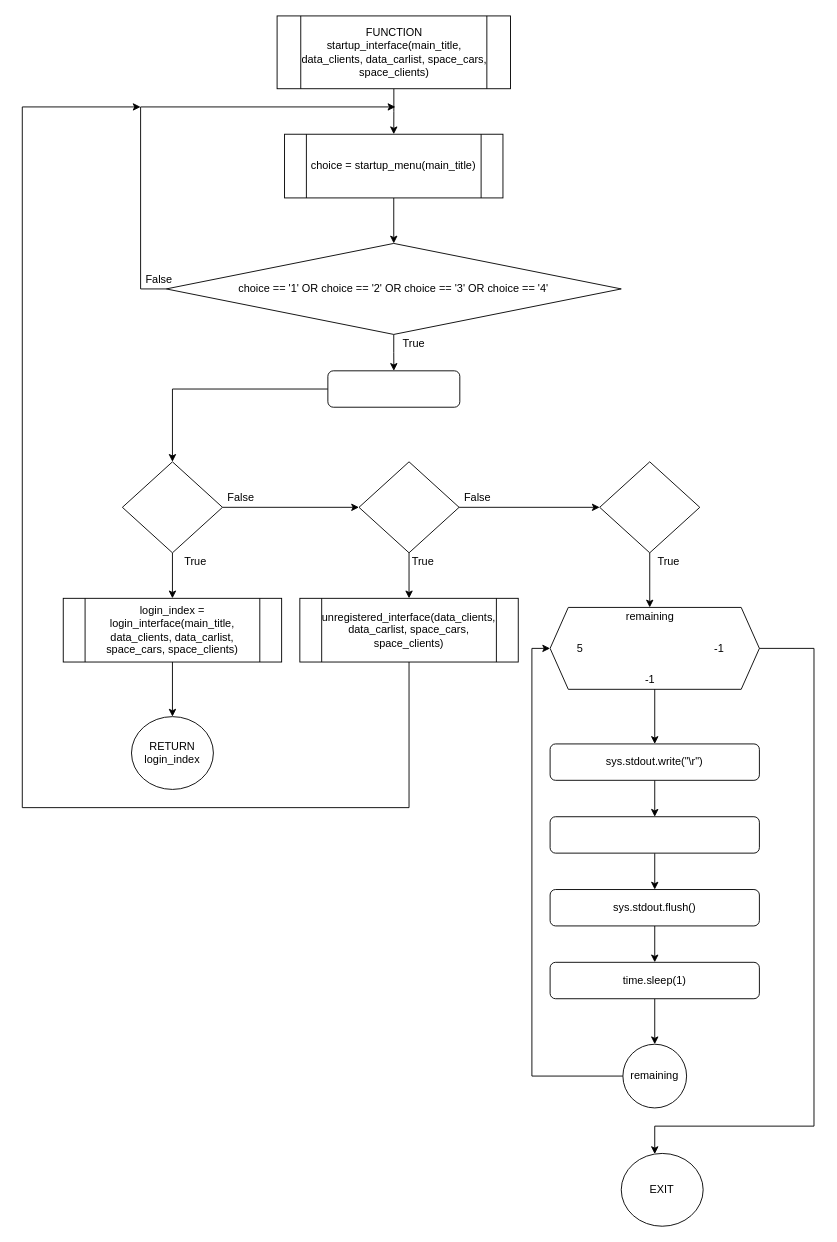
Image size: 837x1242. Some labels were removed from this diagram. The shapes that lost their labels are listed below. From the top down, each one's centre as x and y in pixels, then its label:
[393,388]: BREAK
[171,507]: choice == '1'
[408,507]: choice == '2'
[649,507]: choice == '3'
[654,834]: sys.stdout.write("Will be directed IN {:2d}......".format(remaining))
